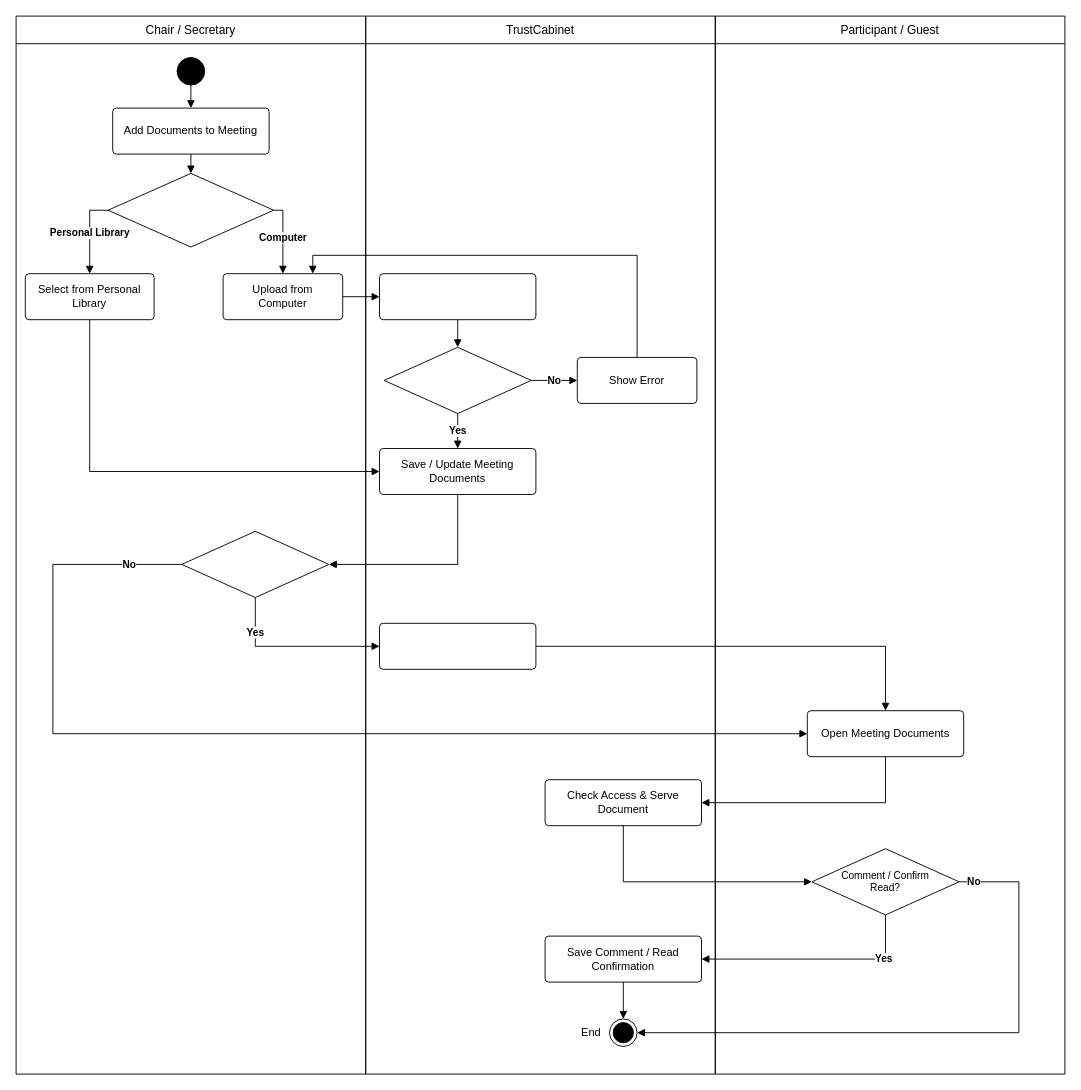
Image size: 1081x1090. Some labels were removed from this diagram. Here are the shapes that lost their labels. From the top down, the centre of each, then its label:
pixel 190 71: Start
pixel 190 209: Upload from Computer or Personal Library?
pixel 457 296: Validate Format, Size & Quota
pixel 457 380: File Valid?
pixel 255 564: Link to Agenda / Draft Vote?
pixel 457 645: Save Document Links
